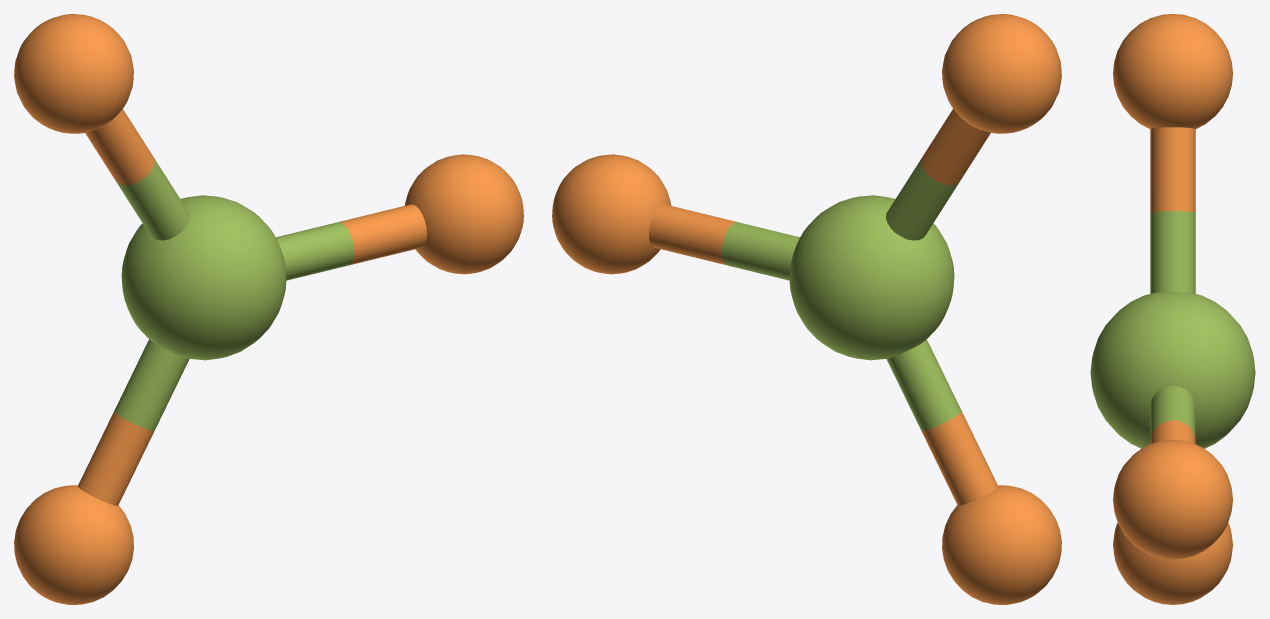
The picture shows the model from 3 angles, left to right: view 1: azimuth 30°, elevation 25°; view 2: azimuth 150°, elevation 25°; view 3: azimuth 270°, elevation 25°; orthographic projection.
Parts seen in each view (by area): view 1: Text001; view 2: Text001; view 3: Text001.
Part boxes in pixels (bbox=[...]): Text001: bbox=[14, 14, 523, 604]; Text001: bbox=[552, 14, 1061, 604]; Text001: bbox=[1090, 14, 1255, 604].
Bounding box in the file's own units: 37.99 × 42.62 × 11.
Materials: 1 (1 with a texture image).
